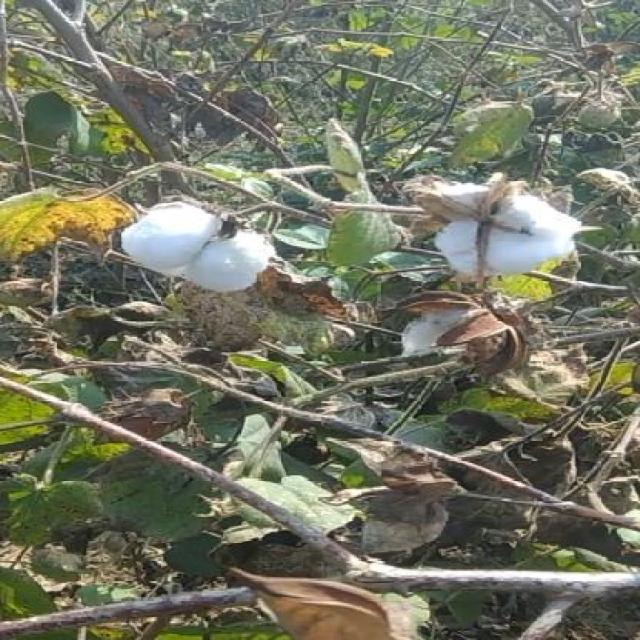cotton_ready: (91, 185, 332, 303), (418, 171, 584, 311)
